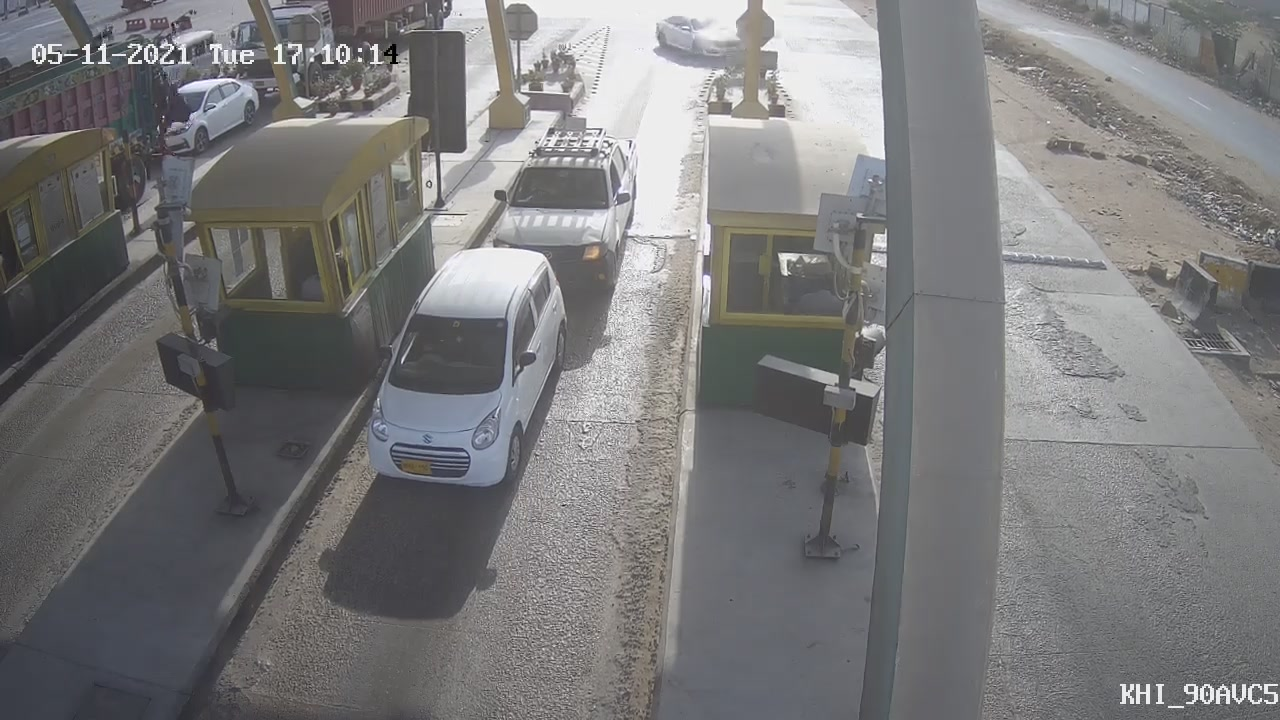F1: (335, 233, 595, 507), (476, 104, 653, 300)
